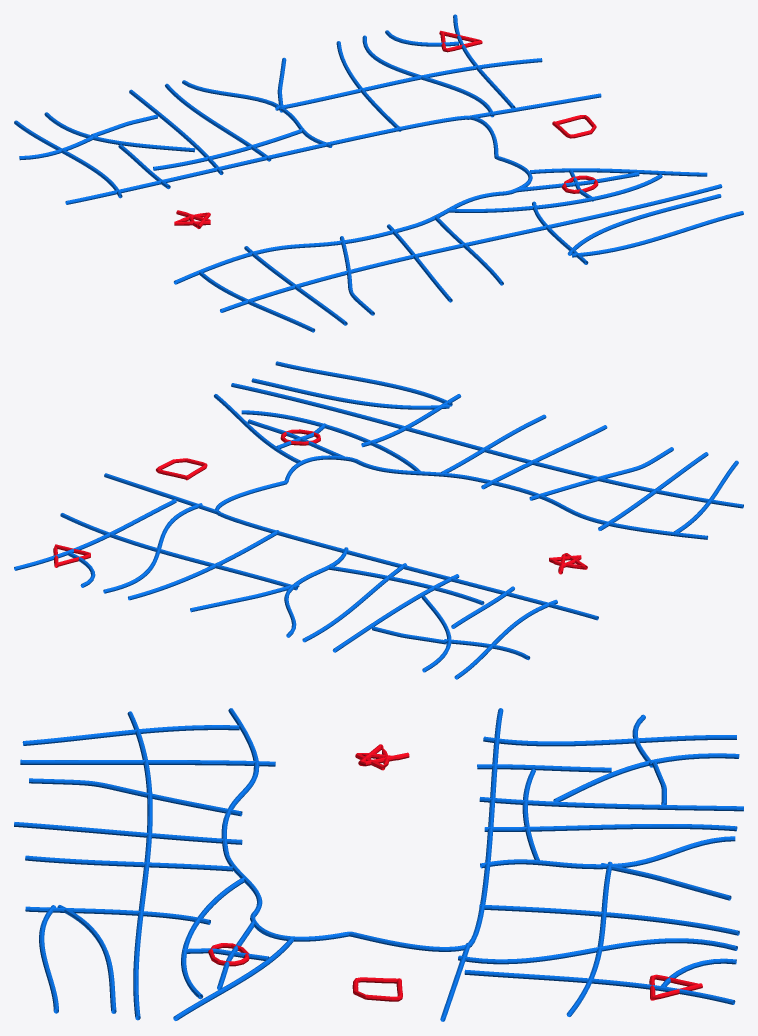
Rendered from Tutorial_example.fbx.
3 renders of one model, top to bottom at view 1: azimuth 30°, elevation 25°; view 2: azimuth 150°, elevation 25°; view 3: azimuth 270°, elevation 25°, orthographic. The views are drawn at different scales.
Parts seen in each view (by area): view 1: Layer 01; view 2: Layer 01; view 3: Layer 01.
Boxes of the visible parts, x1,y1,x2,y2 form: Layer 01: [14, 14, 743, 332]; Layer 01: [14, 361, 743, 679]; Layer 01: [14, 708, 743, 1021].
Size of the model in its own units: 0.4096 by 0.003 by 0.4082.
